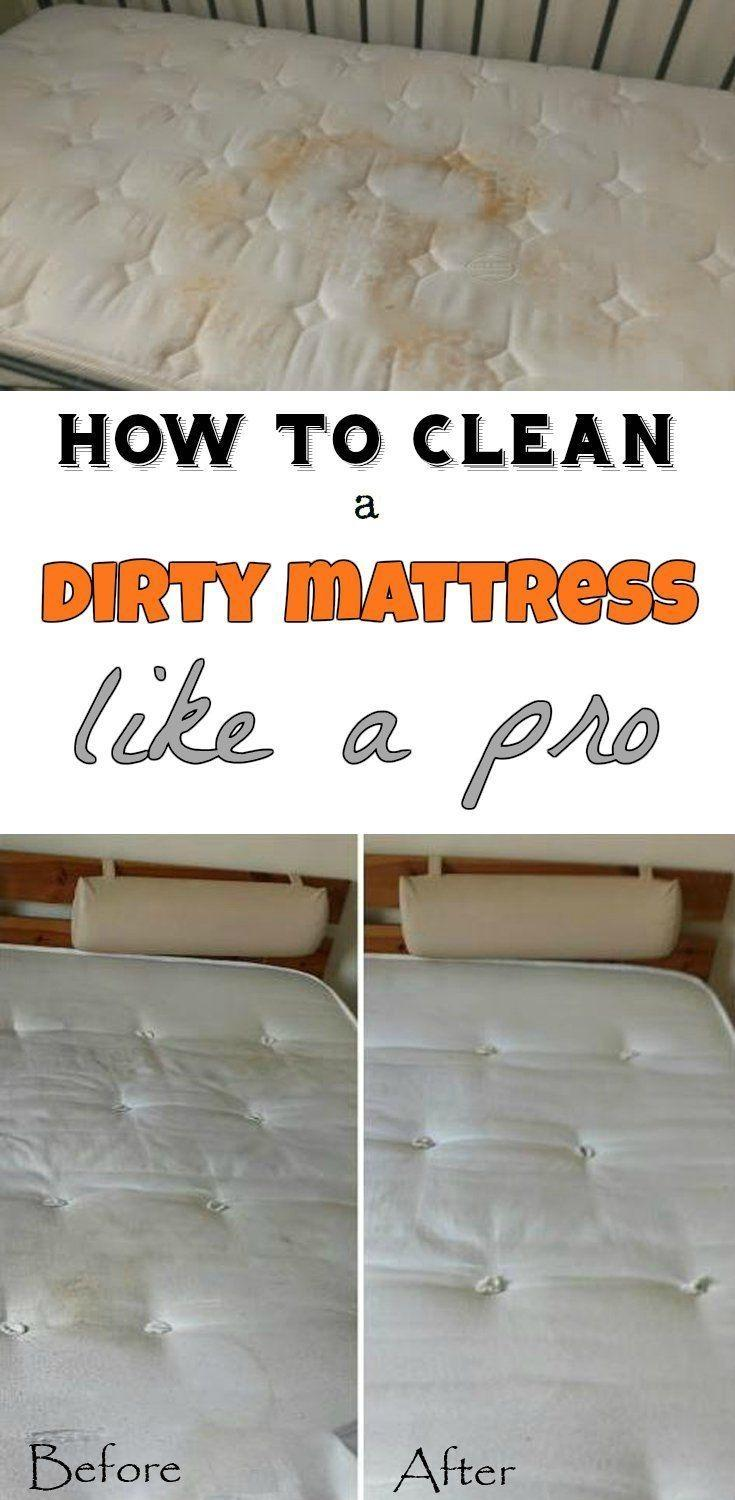Bed-Mattress: (1, 4, 734, 389), (0, 900, 364, 1500)
